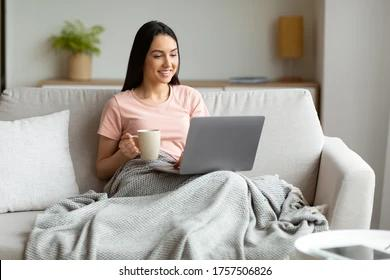blanket: (23, 152, 329, 261)
short sleeve shirt: (96, 84, 213, 162)
